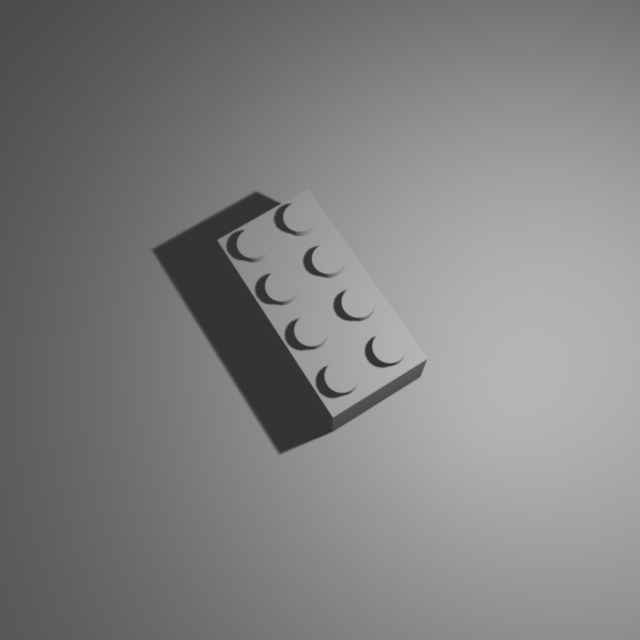lego_2x4: (216, 184, 429, 432)
